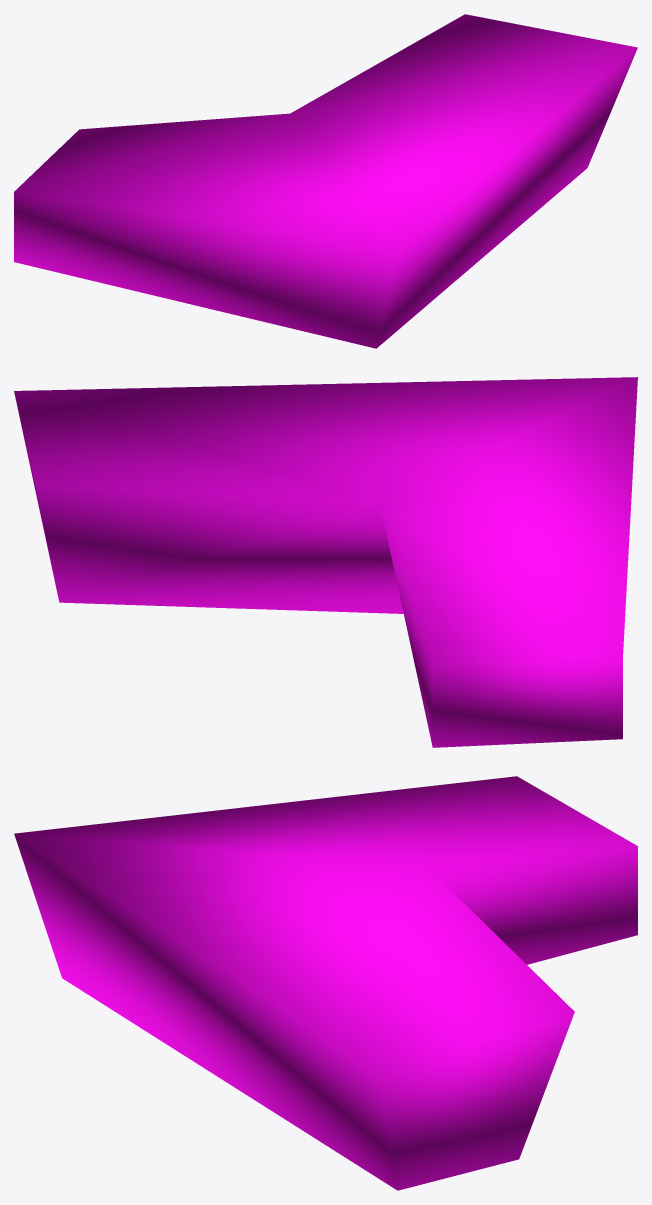
File: becon_meshCollider.fbx
3 renders of one model, top to bottom at view 1: azimuth 30°, elevation 25°; view 2: azimuth 150°, elevation 25°; view 3: azimuth 270°, elevation 25°, orthographic. The views are drawn at different scales.
Parts seen in each view (by area): view 1: foods_beconSlices_meshCollider; view 2: foods_beconSlices_meshCollider; view 3: foods_beconSlices_meshCollider.
Part boxes in pixels (bbox=[...]): foods_beconSlices_meshCollider: bbox=[14, 14, 637, 348]; foods_beconSlices_meshCollider: bbox=[14, 377, 637, 747]; foods_beconSlices_meshCollider: bbox=[14, 776, 637, 1190].
Bounding box in the file's own units: 22.44 × 4.35 × 16.8.
